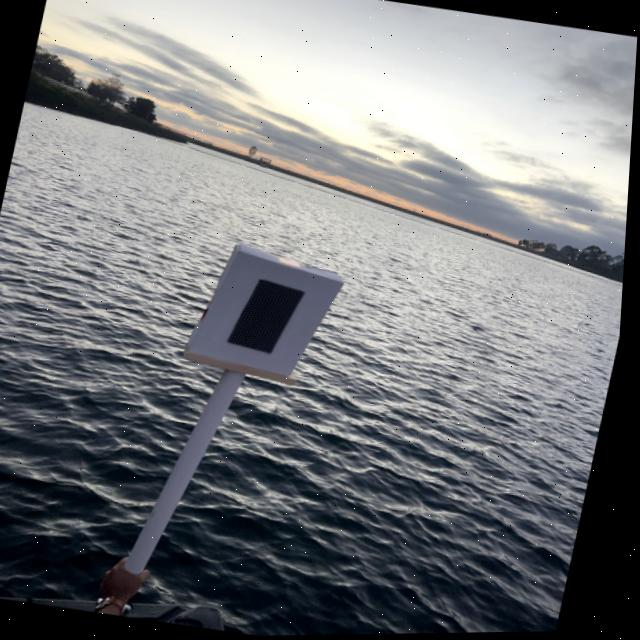led: (217, 264, 322, 381)
